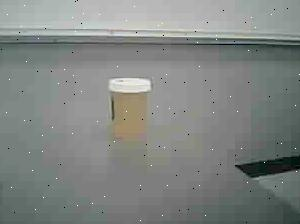Bottle B: (101, 71, 160, 146)
